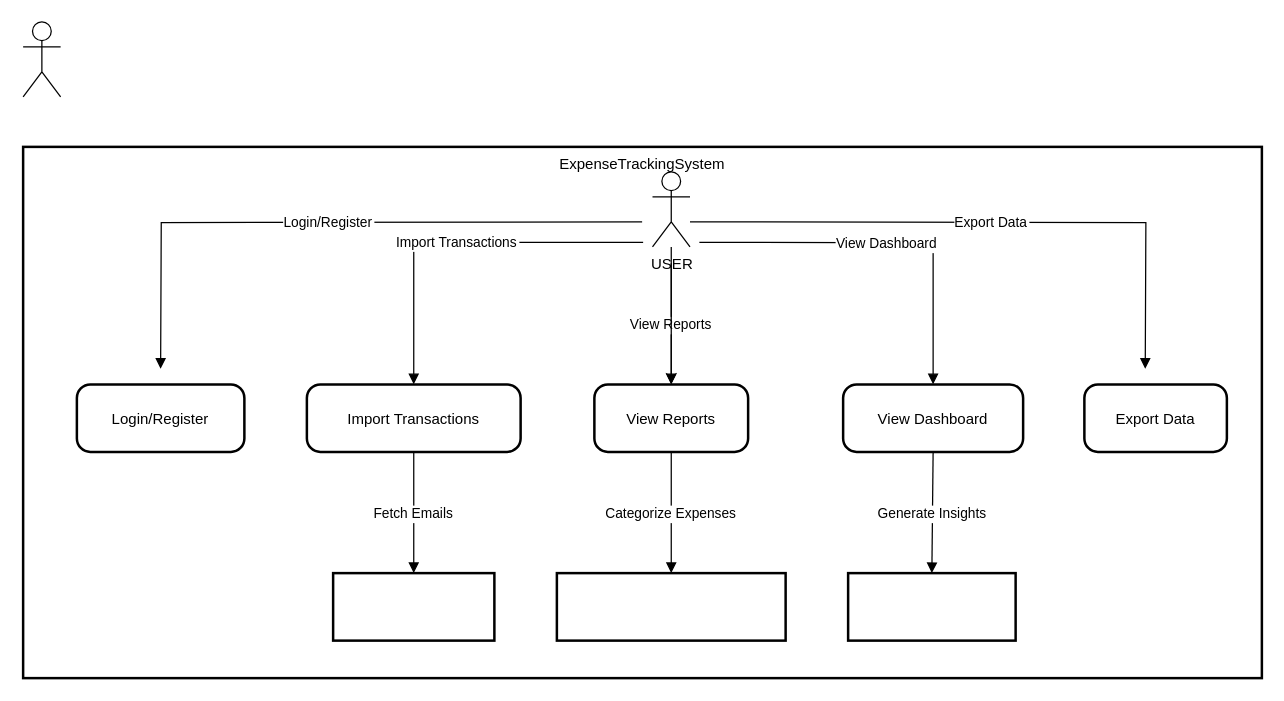
This 1284x701 diagram has some shape labels left out. The shapes that lost their labels are listed below. From the top down, each one's box as (x1, y1, x2, y2) in pixels, then its label:
(22, 21, 61, 97): Actor
(331, 571, 495, 641): Gmail API
(555, 571, 786, 641): AI Categorization
(846, 571, 1016, 641): Dashboard
